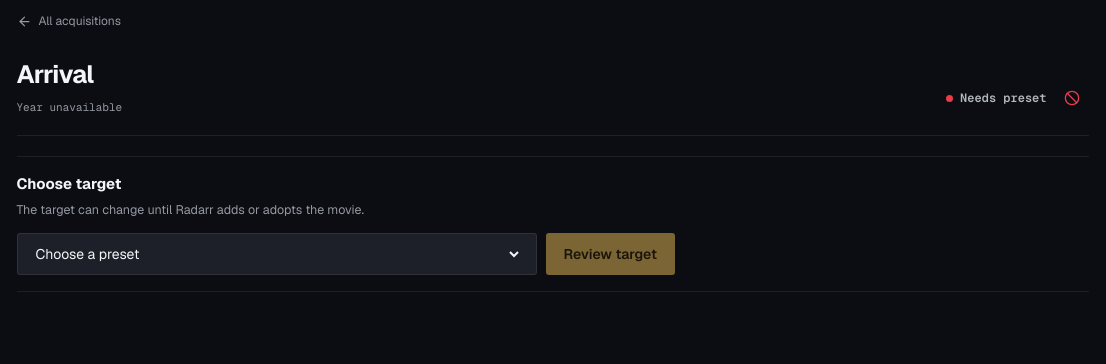
Test: Radarr acquisition target safety › uses an existing no-file movie without opening target review
Select "Movies 1080p" in the dropdown named "Acquisition preset" at [276, 254], box [32, 244, 522, 264]
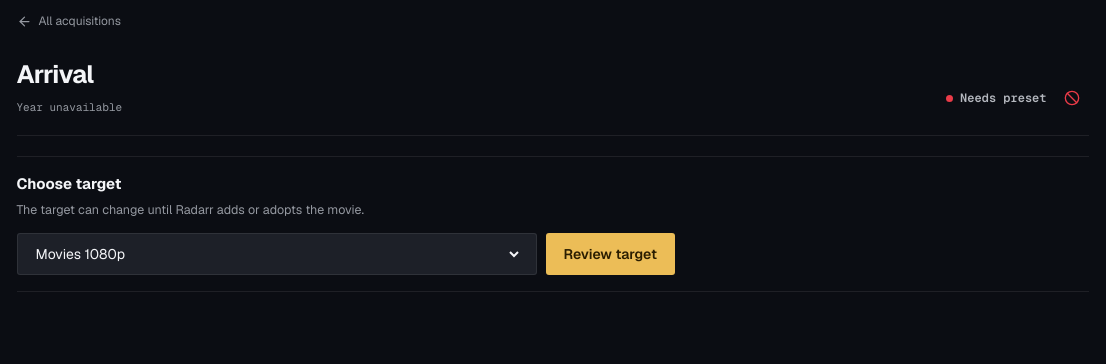
Click the button "Review target" at [610, 254], box [546, 233, 675, 275]
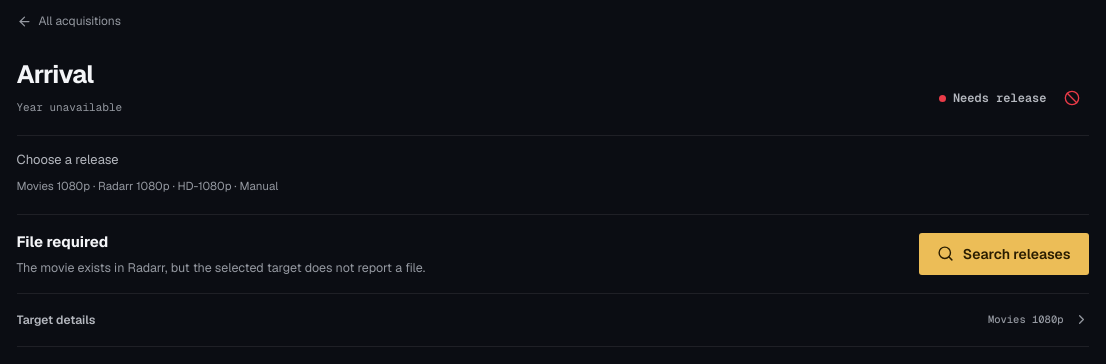
Expected: the button "Search releases" is shown, [919, 233, 1088, 275]
